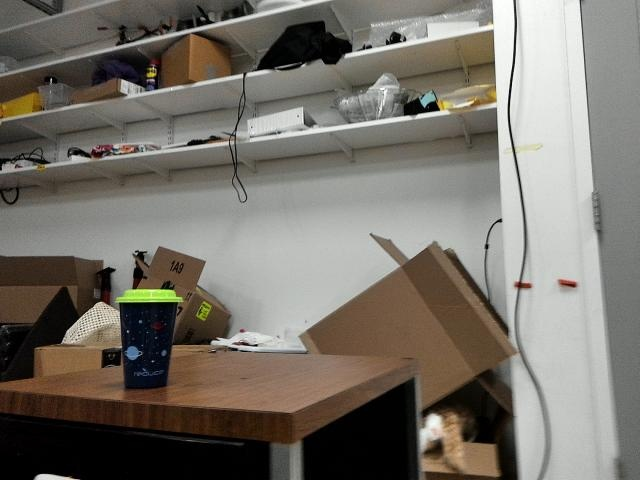useless_cup: (114, 286, 184, 393)
